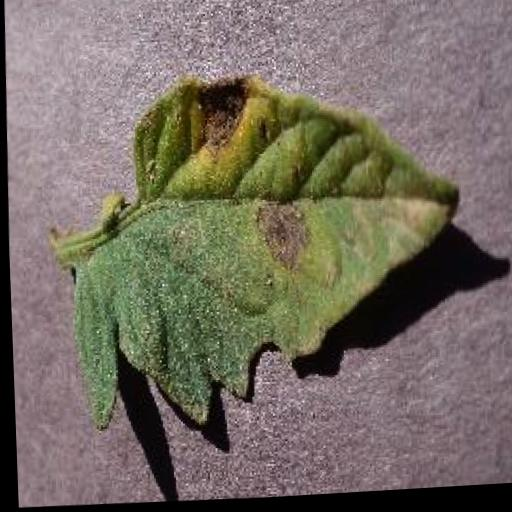Early Blight: (55, 63, 469, 435)
